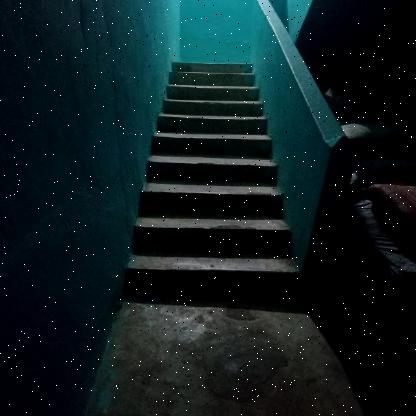stair: (119, 56, 300, 322)
